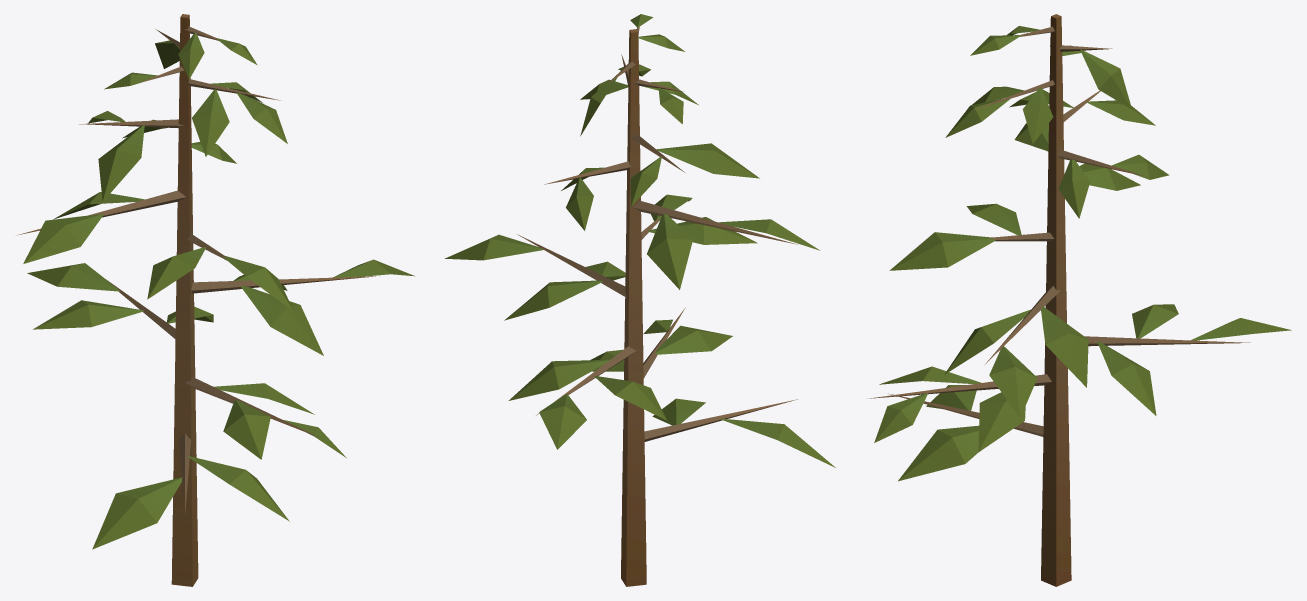
File: Plant_5.fbx
3 views of the same model, side by side, from view 1: azimuth 30°, elevation 25°; view 2: azimuth 150°, elevation 25°; view 3: azimuth 270°, elevation 25° (orthographic). The views are drawn at different scales.
Visible parts, largest first — view 1: polySurface10620; view 2: polySurface10620; view 3: polySurface10620.
Part boxes in pixels (box(x1,y1,x2,y2)): polySurface10620: box(17, 14, 414, 586); polySurface10620: box(445, 14, 835, 586); polySurface10620: box(866, 14, 1291, 586).
Bounding box in the file's own units: 108 × 150 × 103.
